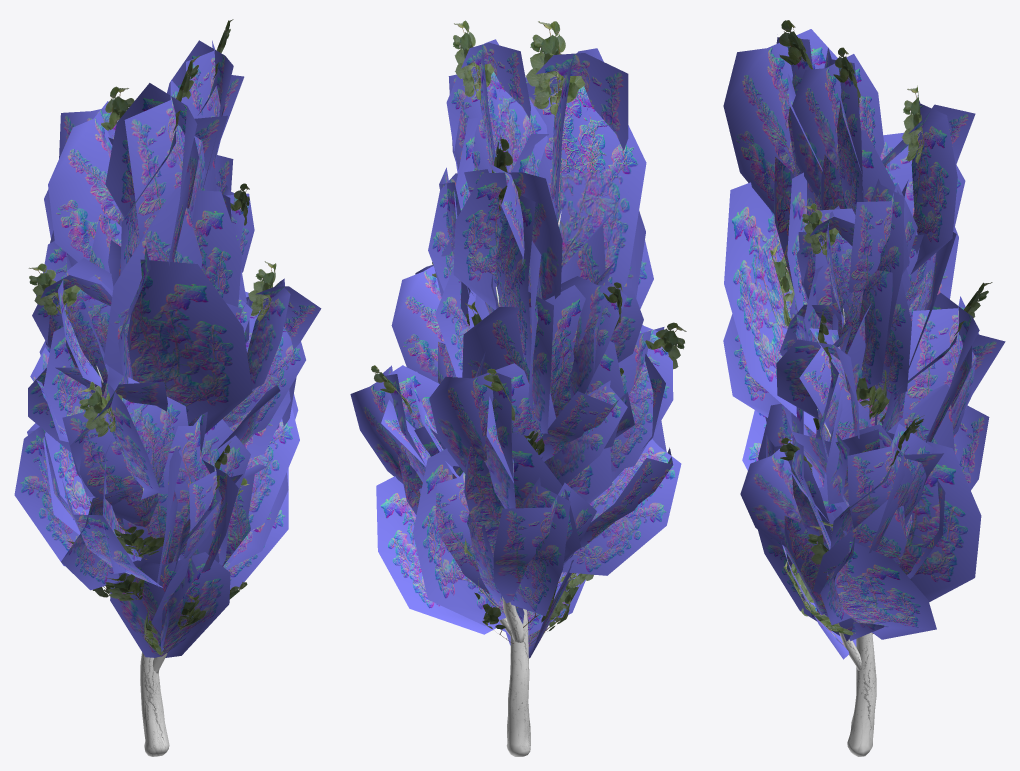
Rendered from PoplarTree00.fbx.
The picture shows the model from 3 angles, left to right: view 1: azimuth 30°, elevation 25°; view 2: azimuth 150°, elevation 25°; view 3: azimuth 270°, elevation 25°; orthographic projection. The views are drawn at different scales.
Parts seen in each view (by area): view 1: PoplarBranchB024, PoplarBranchA006, PoplarBranchB019, PoplarBranchB027, PoplarBranchA037, PoplarBranchA, PoplarBranchB023, PoplarBranchB022, PoplarBranchB018, PoplarBranchA005, PoplarBranchA011, PoplarBranchA046 (+42 smaller); view 2: PoplarBranchA036, PoplarBranchB019, PoplarBranchB001, PoplarBranchA010, PoplarBranchB021, PoplarBranchB003, PoplarBranchB030, PoplarBranchB002, PoplarBranchA026, PoplarBranchA003, PoplarBranchB028, PoplarBranchB010 (+41 smaller); view 3: PoplarBranchB024, PoplarBranchB022, PoplarBranchB003, PoplarBranchB016, PoplarBranchB030, PoplarBranchB019, PoplarBranchA002, PoplarBranchA047, PoplarBranchB025, PoplarBranchA028, PoplarBranchB010, PoplarBranchA027 (+46 smaller).
Boxes of the visible parts, <box> form: PoplarBranchB024: <box>108,240,252,433</box>; PoplarBranchA006: <box>62,377,188,526</box>; PoplarBranchB019: <box>48,101,121,261</box>; PoplarBranchB027: <box>110,552,230,657</box>; PoplarBranchA037: <box>124,80,205,241</box>; PoplarBranchA: <box>141,415,250,563</box>; PoplarBranchB023: <box>103,186,202,379</box>; PoplarBranchB022: <box>105,83,198,265</box>; PoplarBranchB018: <box>192,190,242,306</box>; PoplarBranchA005: <box>14,427,78,566</box>; PoplarBranchA011: <box>36,275,112,396</box>; PoplarBranchA046: <box>246,406,299,529</box>; PoplarBranchA036: <box>525,77,646,286</box>; PoplarBranchB019: <box>453,172,562,309</box>; PoplarBranchB001: <box>429,363,555,473</box>; PoplarBranchA010: <box>562,439,681,575</box>; PoplarBranchB021: <box>462,285,585,404</box>; PoplarBranchB003: <box>413,448,572,626</box>; PoplarBranchB030: <box>376,476,501,634</box>; PoplarBranchB002: <box>464,433,580,560</box>; PoplarBranchA026: <box>448,72,547,176</box>; PoplarBranchA003: <box>493,482,596,603</box>; PoplarBranchB028: <box>350,365,439,483</box>; PoplarBranchB010: <box>391,266,444,383</box>; PoplarBranchB024: <box>724,182,815,433</box>; PoplarBranchB022: <box>723,29,837,213</box>; PoplarBranchB003: <box>880,419,981,602</box>; PoplarBranchB016: <box>790,54,884,196</box>; PoplarBranchB030: <box>832,506,936,639</box>; PoplarBranchB019: <box>910,95,957,274</box>; PoplarBranchA002: <box>902,296,978,435</box>; PoplarBranchA047: <box>847,423,933,528</box>; PoplarBranchB025: <box>740,438,801,547</box>; PoplarBranchA028: <box>848,182,917,292</box>; PoplarBranchB010: <box>776,339,859,438</box>; PoplarBranchA027: <box>824,47,863,214</box>.
Bounding box in the file's own units: 984 × 2410 × 828.
